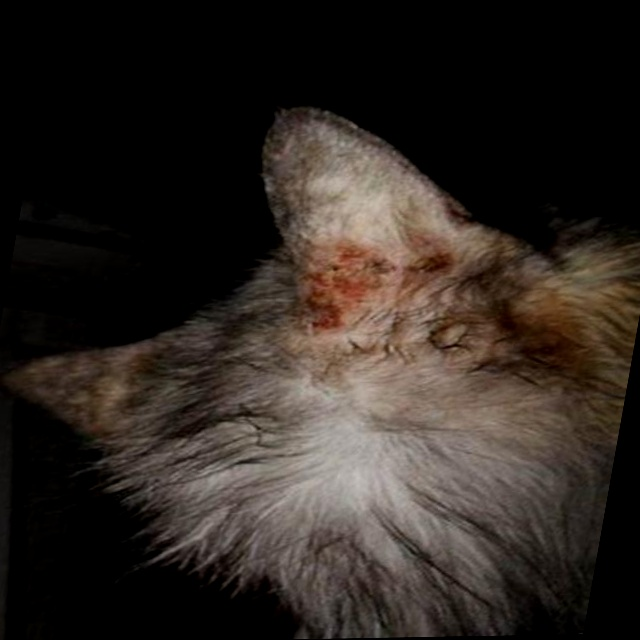ringworm: (296, 244, 458, 339)
